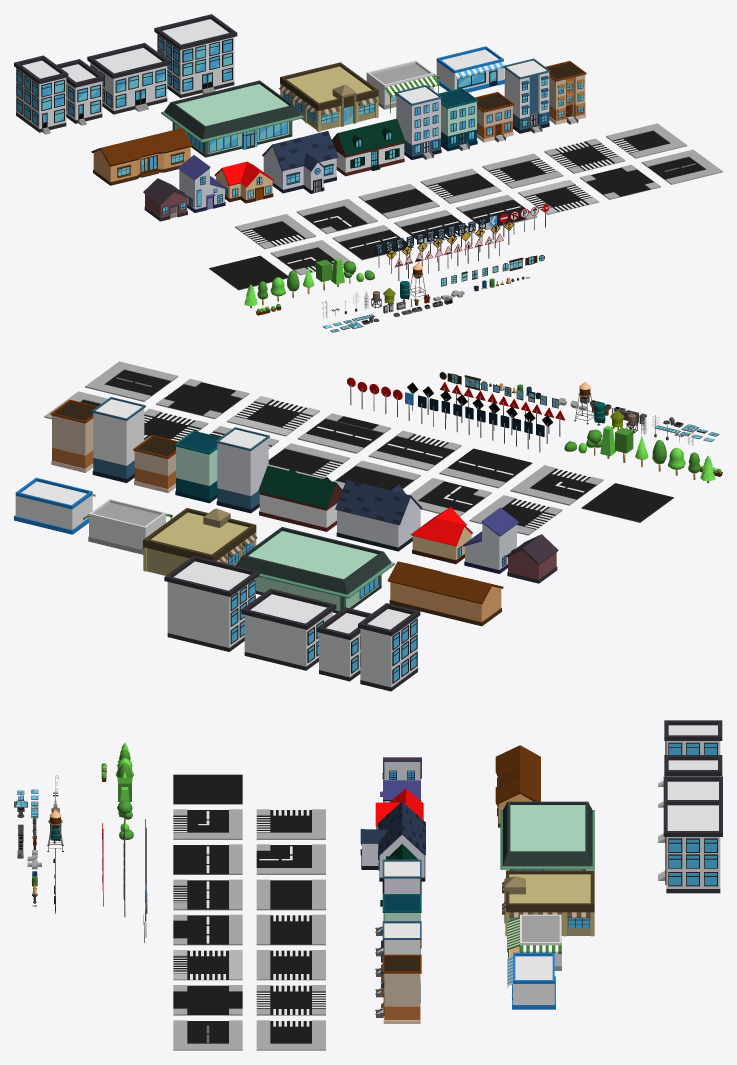
The model's file is CityTownPack.fbx.
The picture shows the model from 3 angles, top to bottom: view 1: azimuth 30°, elevation 25°; view 2: azimuth 150°, elevation 25°; view 3: azimuth 270°, elevation 25°; orthographic projection. The views are drawn at different scales.
Visible parts, largest first — view 1: Env_CommercialBuilding_01, Env_CompanyBuilding_04, Env_CommercialBuilding_02, Env_CompanyBuilding_03, Env_ResidentBuilding_06, Env_ResidentBuilding_04, Env_CompanyBuilding_01, Env_ResidentBuilding_05, Env_Motel_04, Env_Motel_01, Env_CommercialBuilding_04, Env_Motel_05 (+22 smaller); view 2: Env_CommercialBuilding_01, Env_CompanyBuilding_04, Env_CompanyBuilding_03, Env_CommercialBuilding_02, Env_ResidentBuilding_06, Env_ResidentBuilding_04, Env_CompanyBuilding_01, Env_ResidentBuilding_05, Env_Motel_01, Env_Motel_04, Env_CommercialBuilding_04, Env_CommercialBuilding_03 (+20 smaller); view 3: Env_CommercialBuilding_01, Env_CompanyBuilding_04, Env_CommercialBuilding_02, Env_ResidentBuilding_04, Env_Motel_05, Env_CommercialBuilding_04, Env_ResidentBuilding_06, Env_CommercialBuilding_03, Env_Road_Side_03, Env_Road_Side_02, Env_Road_Straight_02, Env_Road_Straight_01 (+19 smaller).
Boxes of the visible parts, bbox=[...] form: Env_CommercialBuilding_01: bbox=[161, 80, 304, 157]; Env_CompanyBuilding_04: bbox=[154, 14, 237, 98]; Env_CommercialBuilding_02: bbox=[279, 62, 379, 131]; Env_CompanyBuilding_03: bbox=[87, 43, 170, 114]; Env_ResidentBuilding_06: bbox=[91, 128, 192, 185]; Env_ResidentBuilding_04: bbox=[262, 131, 338, 193]; Env_CompanyBuilding_01: bbox=[14, 55, 68, 134]; Env_ResidentBuilding_05: bbox=[332, 118, 405, 176]; Env_Motel_04: bbox=[503, 58, 550, 133]; Env_Motel_01: bbox=[395, 85, 442, 159]; Env_CommercialBuilding_04: bbox=[436, 46, 505, 92]; Env_Motel_05: bbox=[545, 61, 586, 124]; Env_CommercialBuilding_01: bbox=[235, 527, 395, 613]; Env_CompanyBuilding_04: bbox=[164, 555, 259, 651]; Env_CompanyBuilding_03: bbox=[241, 588, 336, 670]; Env_CommercialBuilding_02: bbox=[142, 508, 257, 575]; Env_ResidentBuilding_06: bbox=[387, 561, 503, 626]; Env_ResidentBuilding_04: bbox=[335, 480, 422, 551]; Env_CompanyBuilding_01: bbox=[358, 603, 420, 691]; Env_ResidentBuilding_05: bbox=[258, 466, 342, 531]; Env_Motel_01: bbox=[216, 427, 269, 513]; Env_Motel_04: bbox=[92, 397, 145, 482]; Env_CommercialBuilding_04: bbox=[14, 477, 95, 534]; Env_CommercialBuilding_03: bbox=[83, 499, 172, 554]; Env_CommercialBuilding_01: bbox=[500, 801, 594, 870]; Env_CompanyBuilding_04: bbox=[658, 800, 722, 893]; Env_CommercialBuilding_02: bbox=[502, 870, 594, 936]; Env_ResidentBuilding_04: bbox=[360, 801, 425, 881]; Env_Motel_05: bbox=[375, 954, 421, 1023]; Env_CommercialBuilding_04: bbox=[507, 952, 555, 1009]; Env_ResidentBuilding_06: bbox=[495, 745, 540, 827]; Env_CommercialBuilding_03: bbox=[507, 914, 561, 970]; Env_Road_Side_03: bbox=[173, 914, 242, 945]; Env_Road_Side_02: bbox=[173, 879, 242, 910]; Env_Road_Straight_02: bbox=[256, 914, 325, 945]; Env_Road_Straight_01: bbox=[256, 879, 325, 910].
Size of the model in its own units: 9688 by 1047 by 10228.
